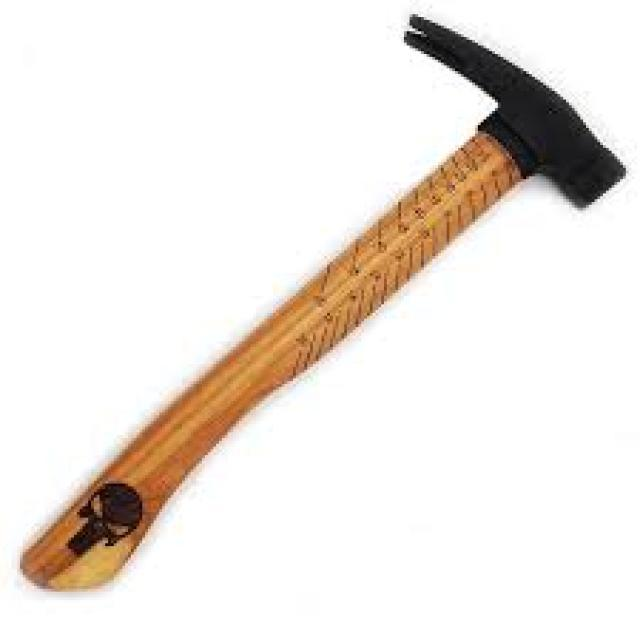Palu: (23, 21, 620, 616)
